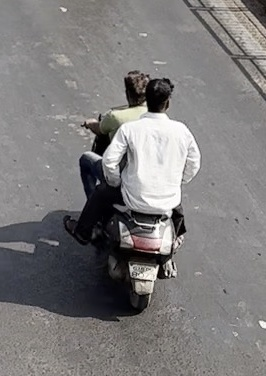BikeWithRider: (61, 68, 202, 310)
NoHelmet: (122, 69, 154, 108), (146, 77, 172, 113)
